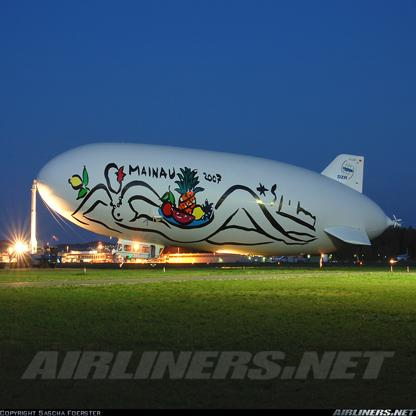Airship: (35, 144, 403, 266)
